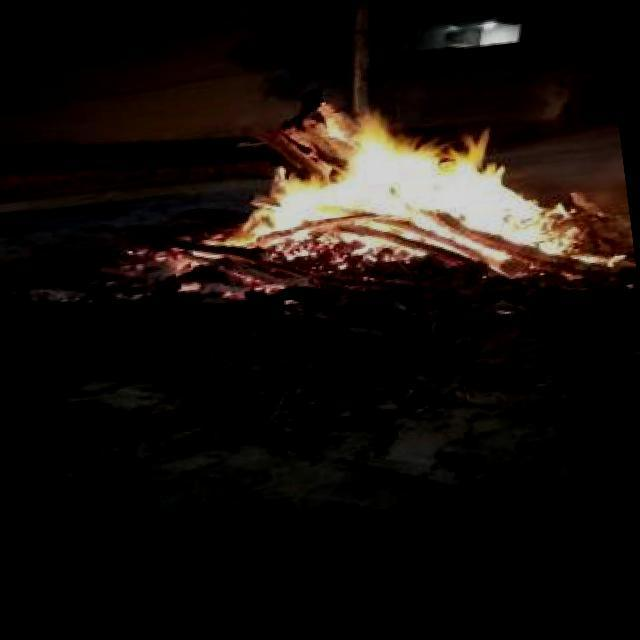Fire: (197, 67, 615, 304)
